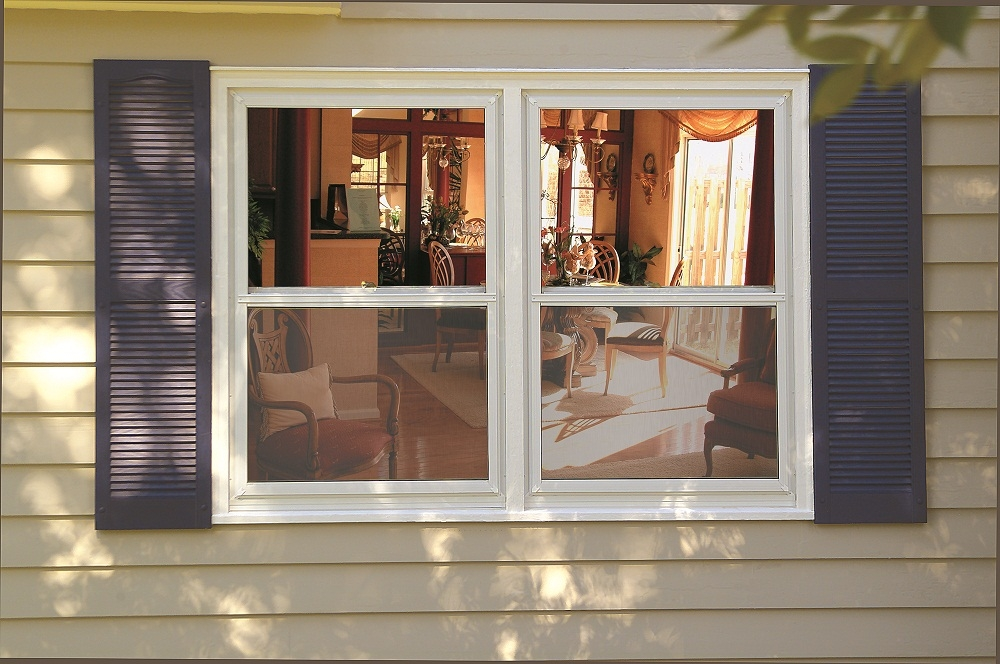windows: (211, 67, 797, 512)
